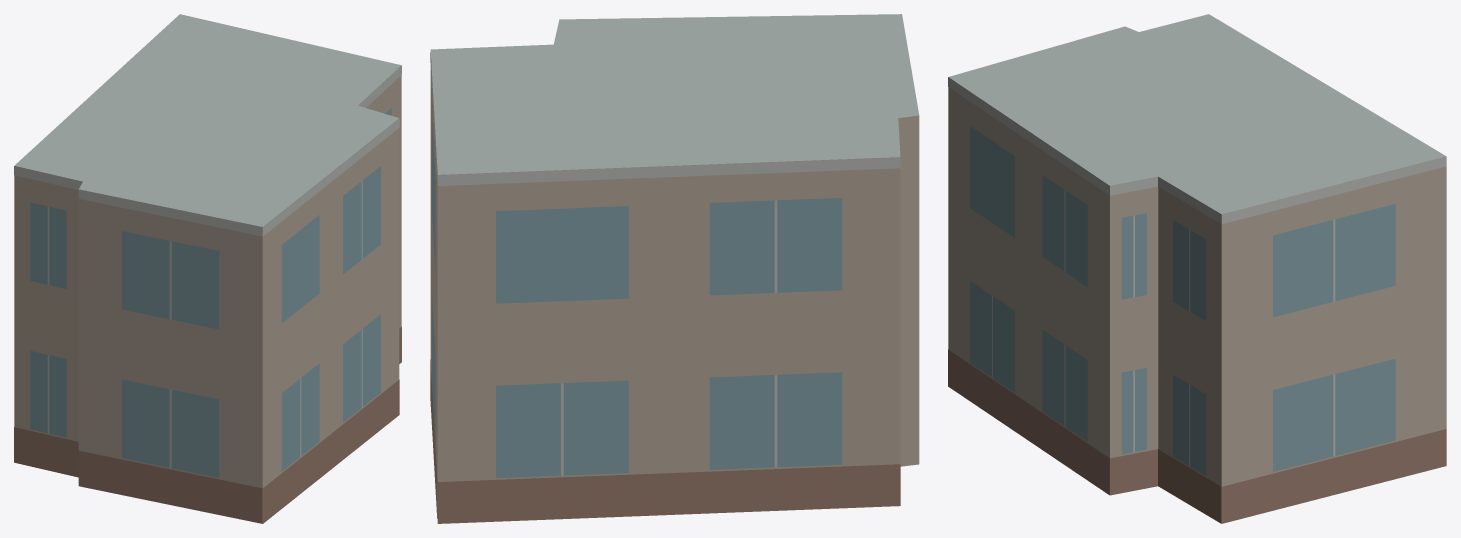
File: survey-upis-32598506.glb
The picture shows the model from 3 angles, left to right: view 1: azimuth 30°, elevation 25°; view 2: azimuth 150°, elevation 25°; view 3: azimuth 270°, elevation 25°; orthographic projection. The views are drawn at different scales.
Visible parts, largest first — view 1: survey-upis-32598506.tmp; view 2: survey-upis-32598506.tmp; view 3: survey-upis-32598506.tmp.
Boxes of the visible parts, bbox=[...] form: survey-upis-32598506.tmp: bbox=[14, 14, 401, 523]; survey-upis-32598506.tmp: bbox=[430, 14, 919, 523]; survey-upis-32598506.tmp: bbox=[948, 14, 1446, 523].
Bounding box in the file's own units: 10.56 × 7.6 × 11.1.
